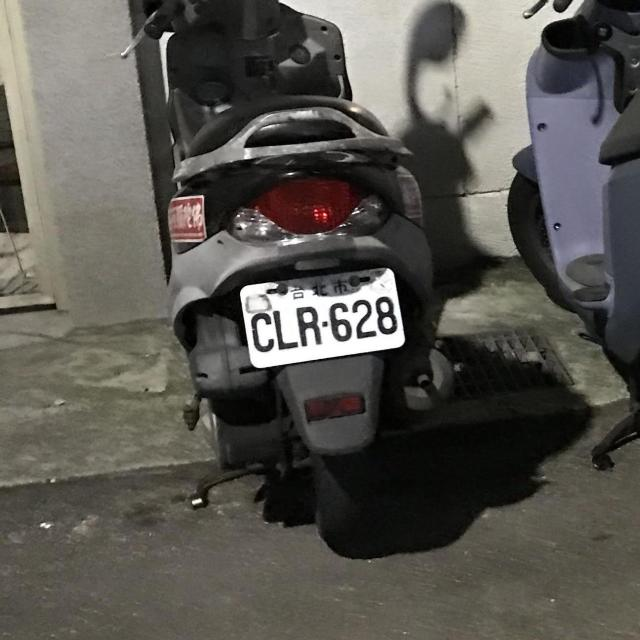W: (236, 260, 409, 371)
